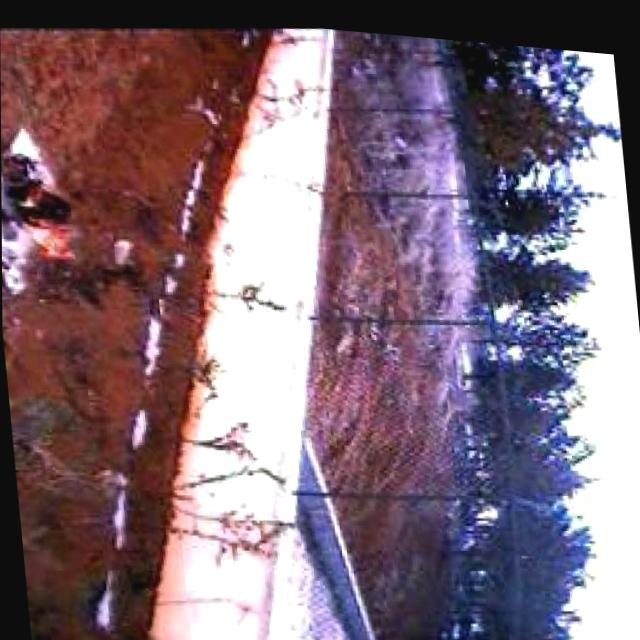Fire: (1, 148, 87, 268)
